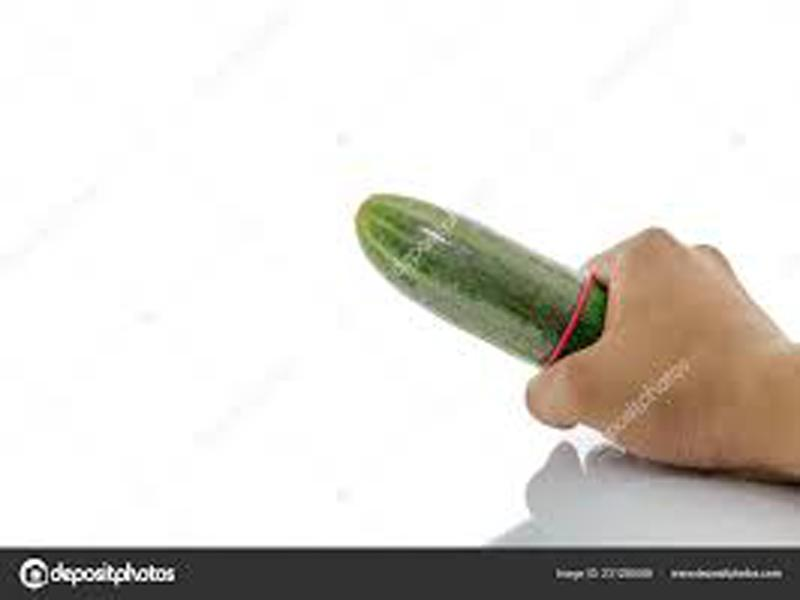Cucumber: (355, 194, 608, 365)
